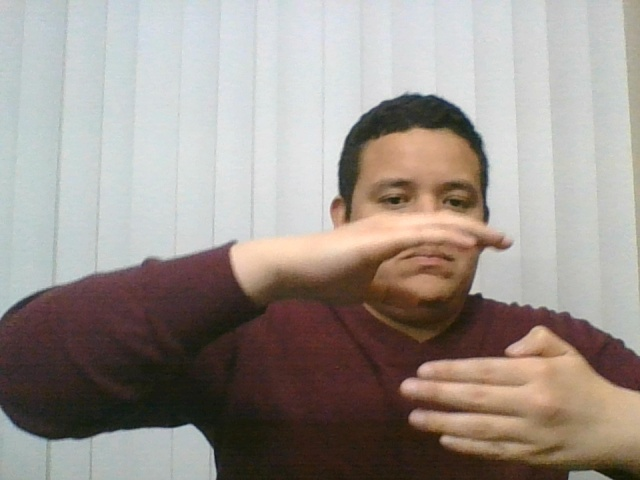To Study: (180, 198, 630, 473)
